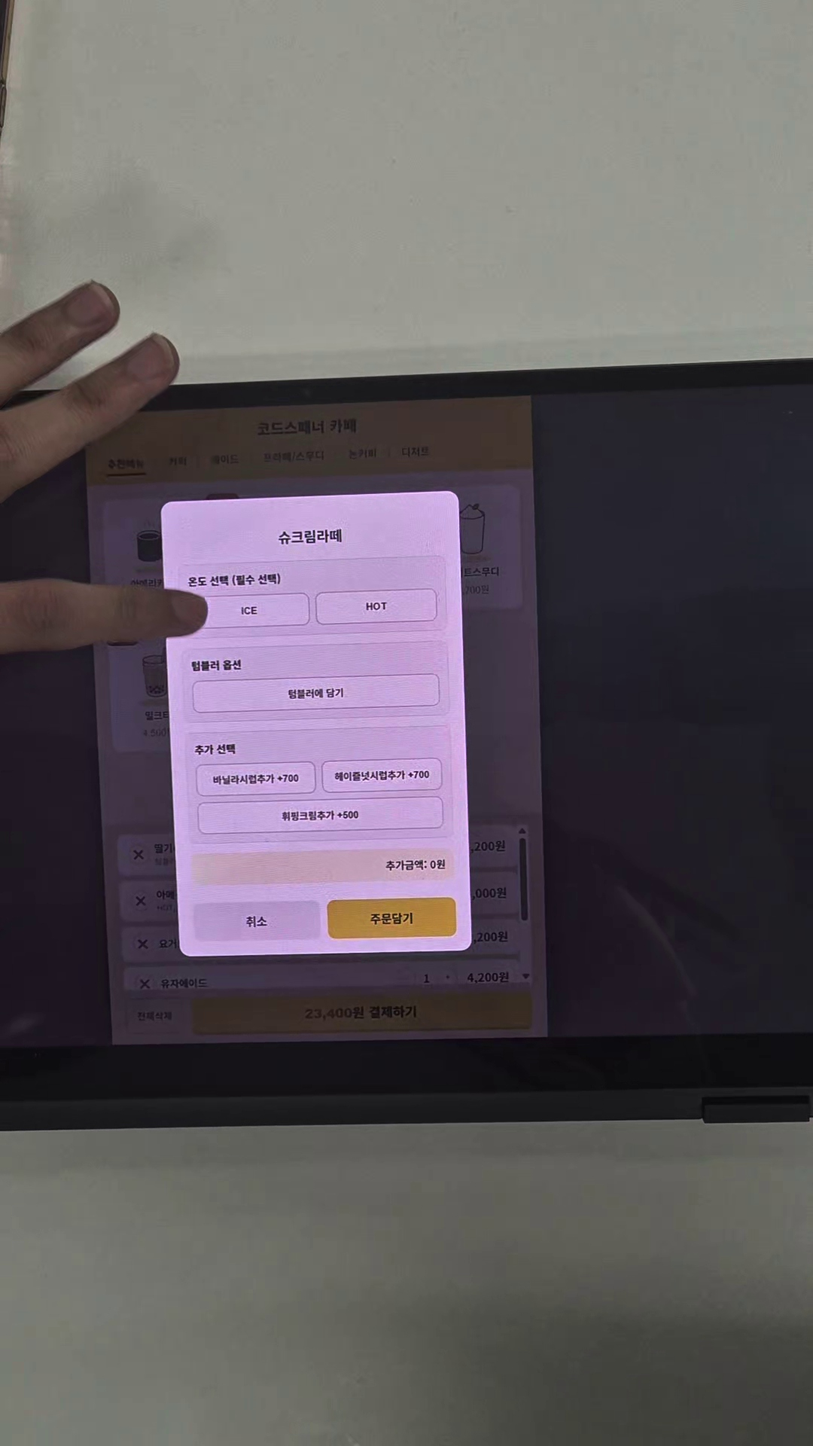action_button: (329, 896, 457, 937), (196, 901, 320, 942)
option_button: (190, 675, 440, 710), (196, 800, 446, 831), (317, 591, 435, 625), (184, 595, 308, 625), (199, 764, 316, 794), (325, 759, 444, 788)
popup_modal: (160, 494, 473, 950)
